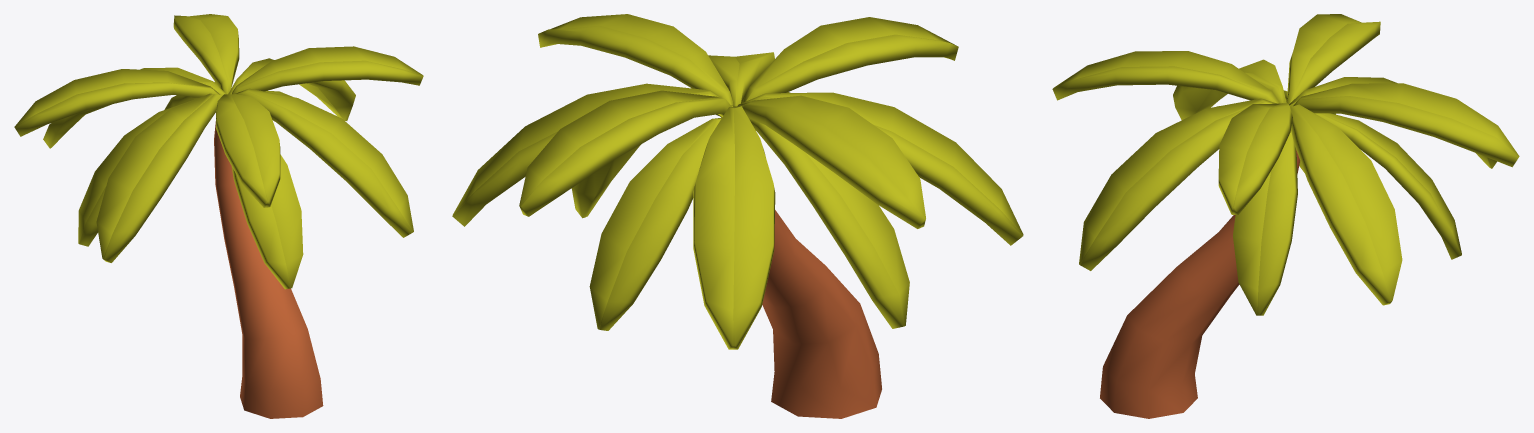
File: palm_s.obj
The picture shows the model from 3 angles, left to right: view 1: azimuth 30°, elevation 25°; view 2: azimuth 150°, elevation 25°; view 3: azimuth 270°, elevation 25°; orthographic projection. The views are drawn at different scales.
Visible parts, largest first — view 1: palm_s; view 2: palm_s; view 3: palm_s.
Part boxes in pixels (left/top/right/bottom): palm_s: left=14, top=14, right=423, bottom=418; palm_s: left=452, top=14, right=1023, bottom=418; palm_s: left=1052, top=14, right=1519, bottom=418.
Bounding box in the file's own units: 2.73 × 2.14 × 2.77.
